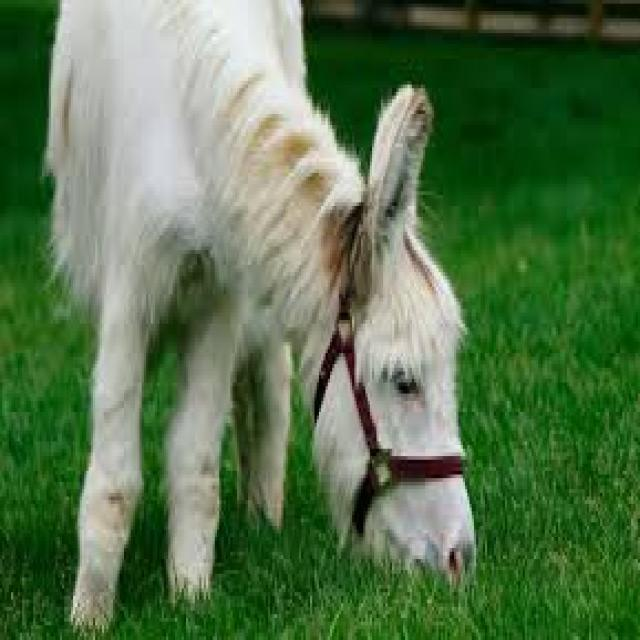Donkey: (33, 0, 485, 629)
